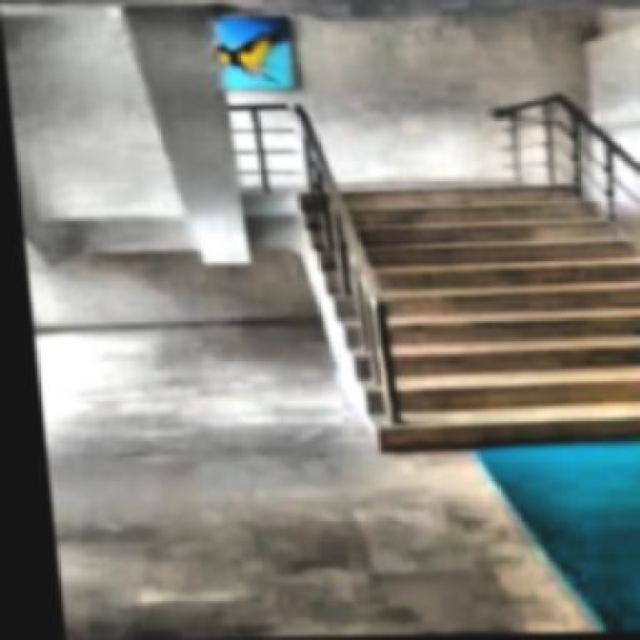stair: (278, 181, 638, 457)
